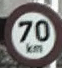Speed limit: (4, 2, 57, 64)
